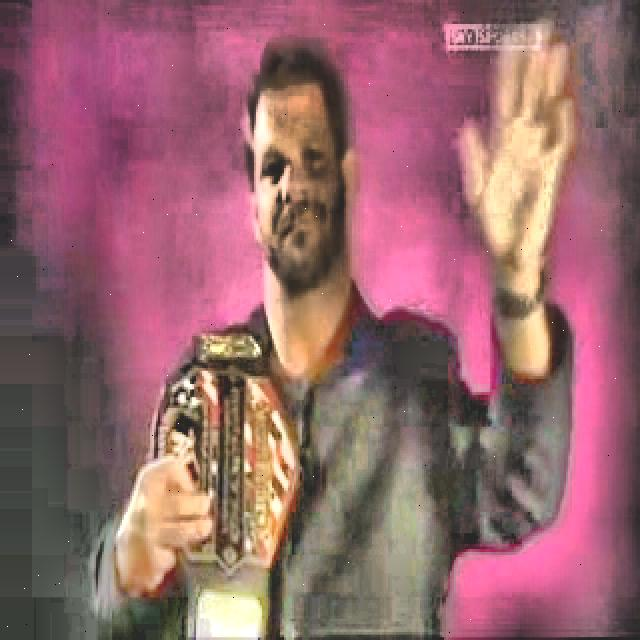L: (92, 39, 572, 639)
